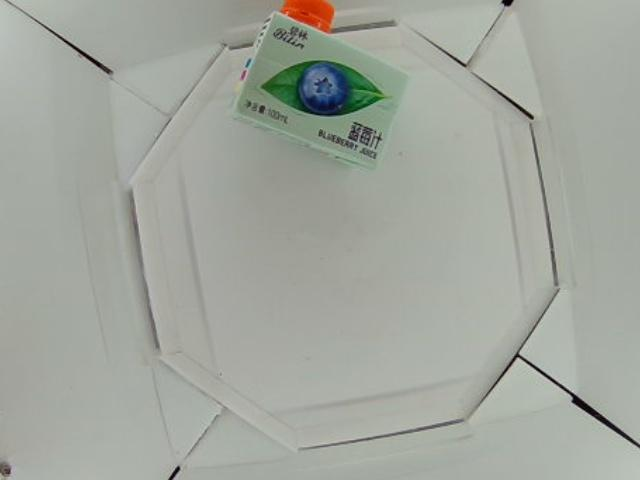Bottle: (234, 1, 411, 172)
